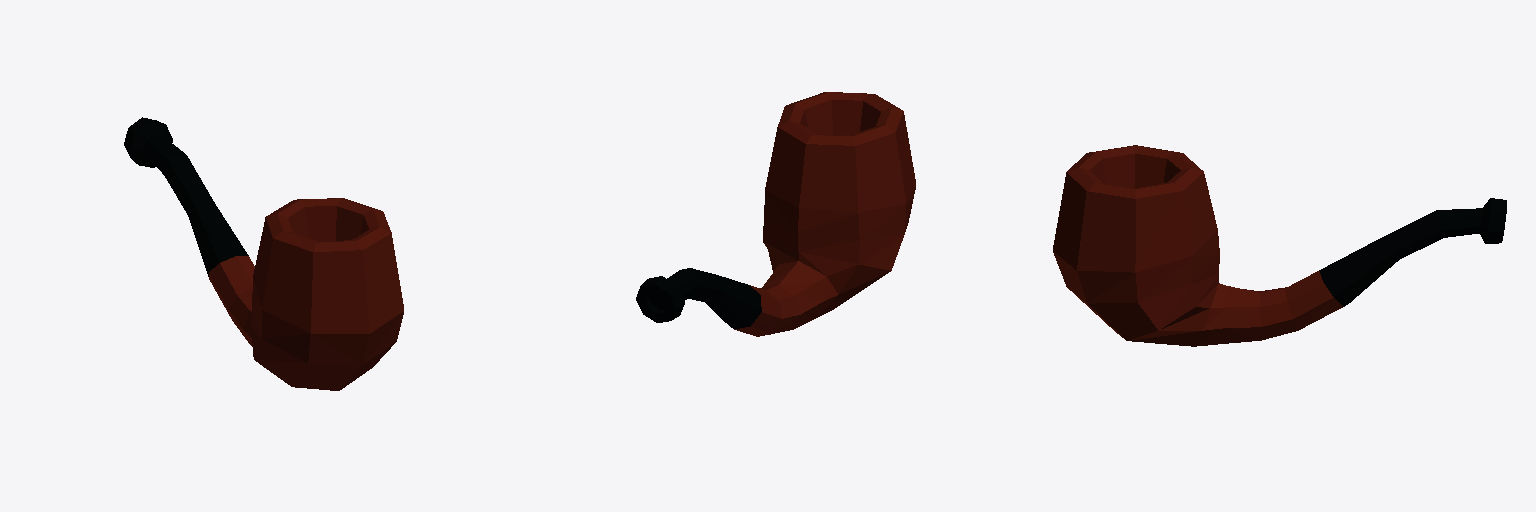
Rendered from pipe.obj.
3 views of the same model, side by side, from view 1: azimuth 30°, elevation 25°; view 2: azimuth 150°, elevation 25°; view 3: azimuth 270°, elevation 25° (orthographic).
Parts seen in each view (by area): view 1: pipe_BezierCurve.013; view 2: pipe_BezierCurve.013; view 3: pipe_BezierCurve.013.
Part boxes in pixels (x1,y1,x2,y2): pipe_BezierCurve.013: (124,117,403,390); pipe_BezierCurve.013: (636,92,915,336); pipe_BezierCurve.013: (1053,145,1506,346).
Size of the model in its own units: 0.1681 by 0.2149 by 0.5.